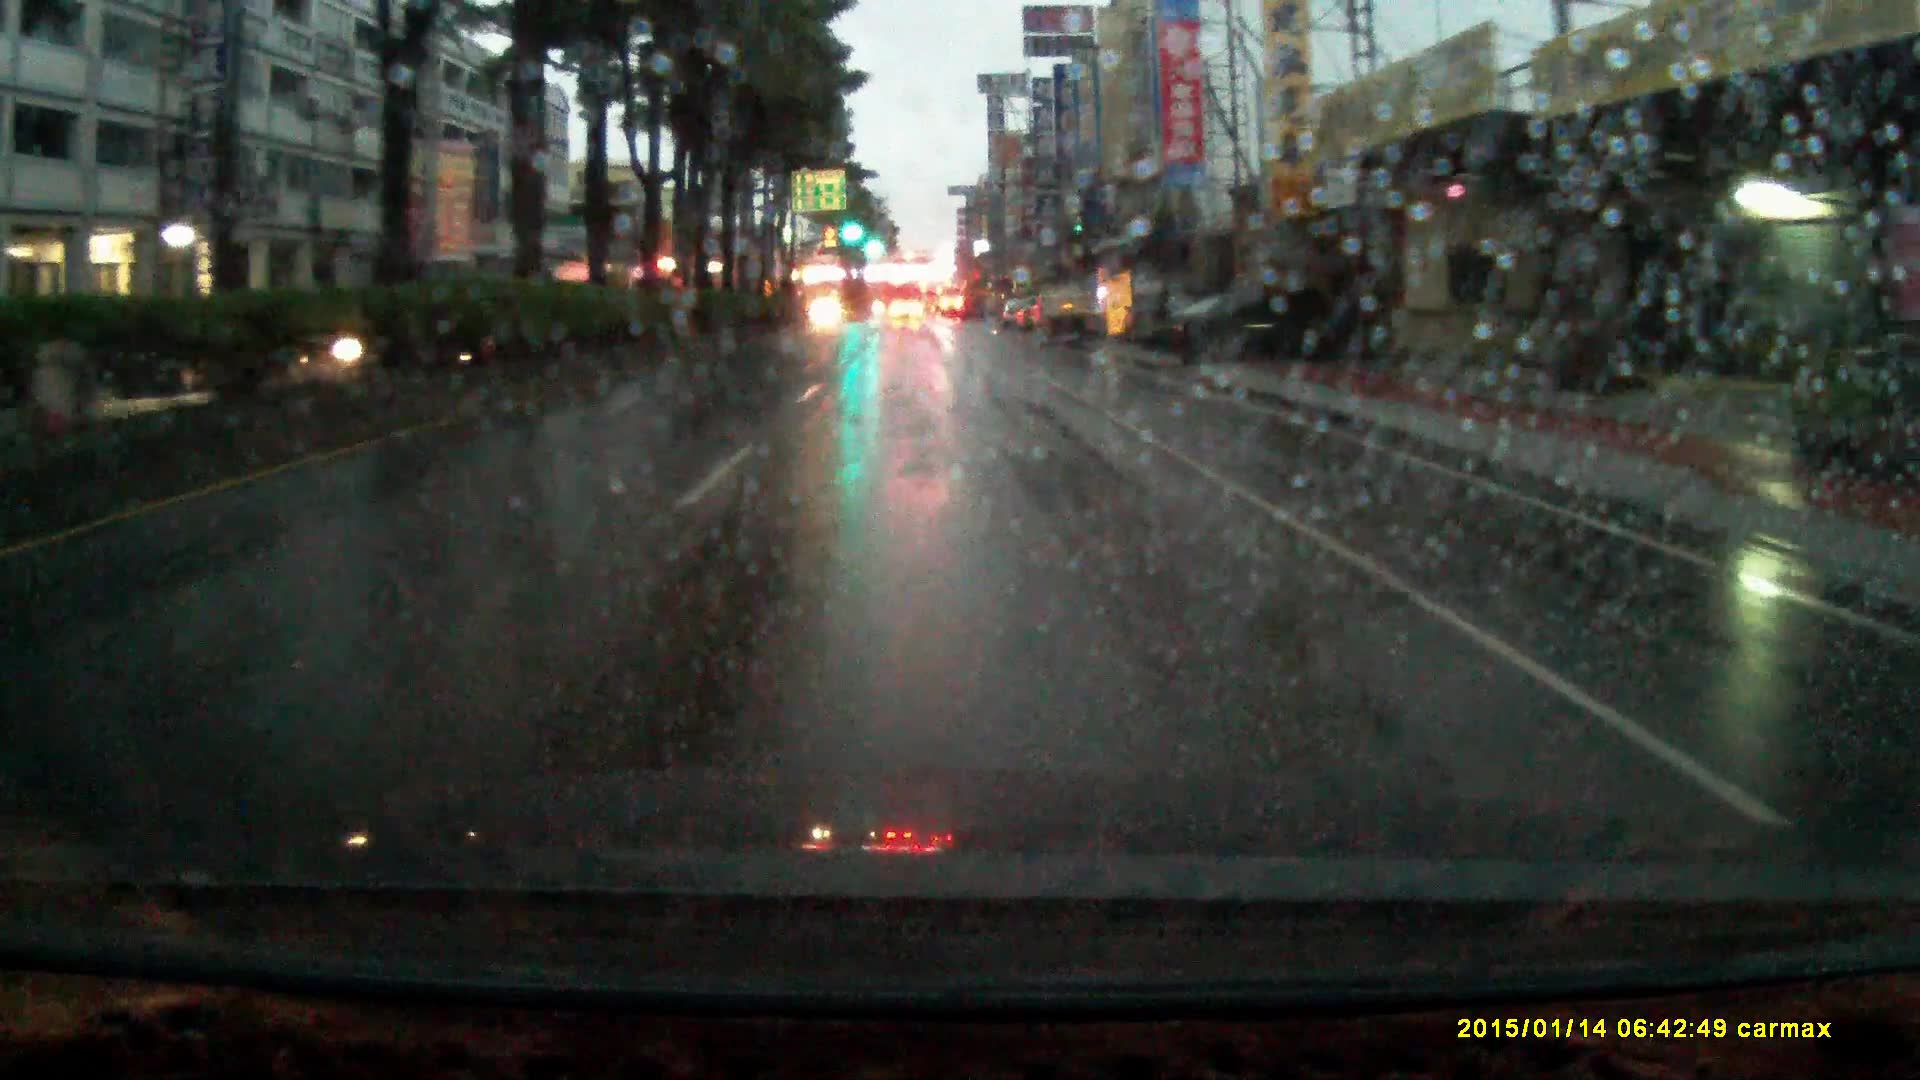vehicle: (1143, 295, 1390, 364), (1034, 287, 1101, 338), (808, 301, 847, 330), (887, 301, 928, 326)
